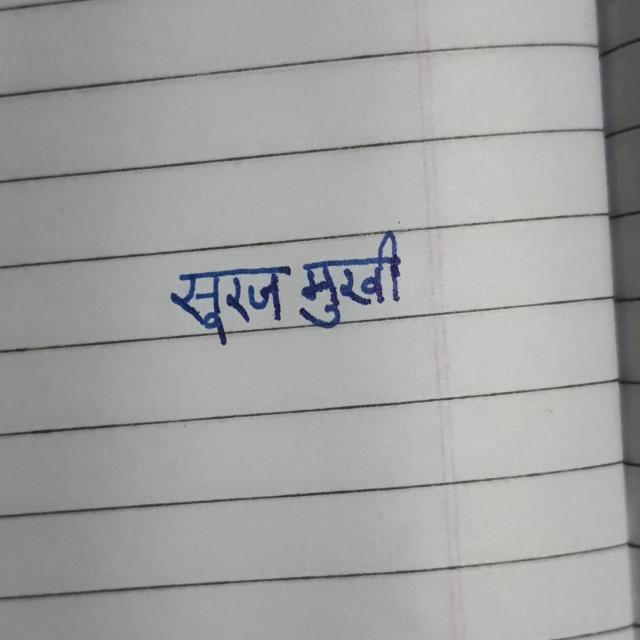signature: (162, 253, 432, 328)
